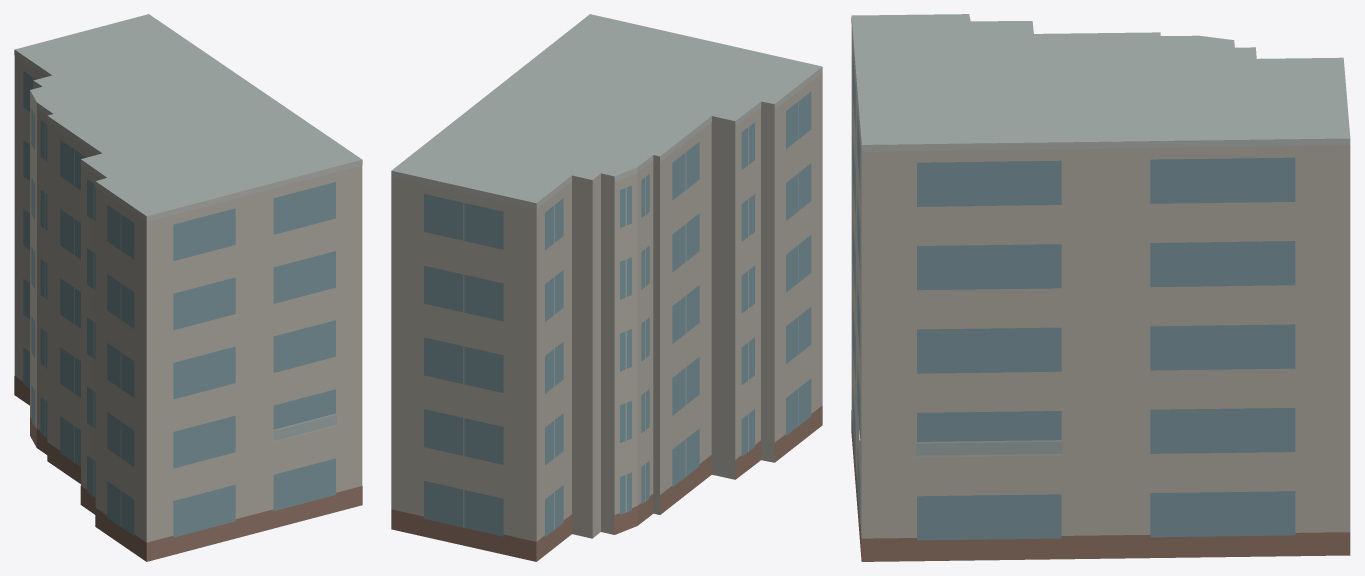
File: survey-upis-32879144.glb
3 renders of one model, left to right at view 1: azimuth 30°, elevation 25°; view 2: azimuth 150°, elevation 25°; view 3: azimuth 270°, elevation 25°, orthographic. The views are drawn at different scales.
Parts seen in each view (by area): view 1: survey-upis-32879144.tmp; view 2: survey-upis-32879144.tmp; view 3: survey-upis-32879144.tmp.
Part boxes in pixels (left/top/right/bottom): survey-upis-32879144.tmp: left=14, top=14, right=362, bottom=561; survey-upis-32879144.tmp: left=391, top=14, right=822, bottom=561; survey-upis-32879144.tmp: left=851, top=14, right=1350, bottom=561.
Size of the model in its own units: 10.04 by 14.9 by 16.17.
